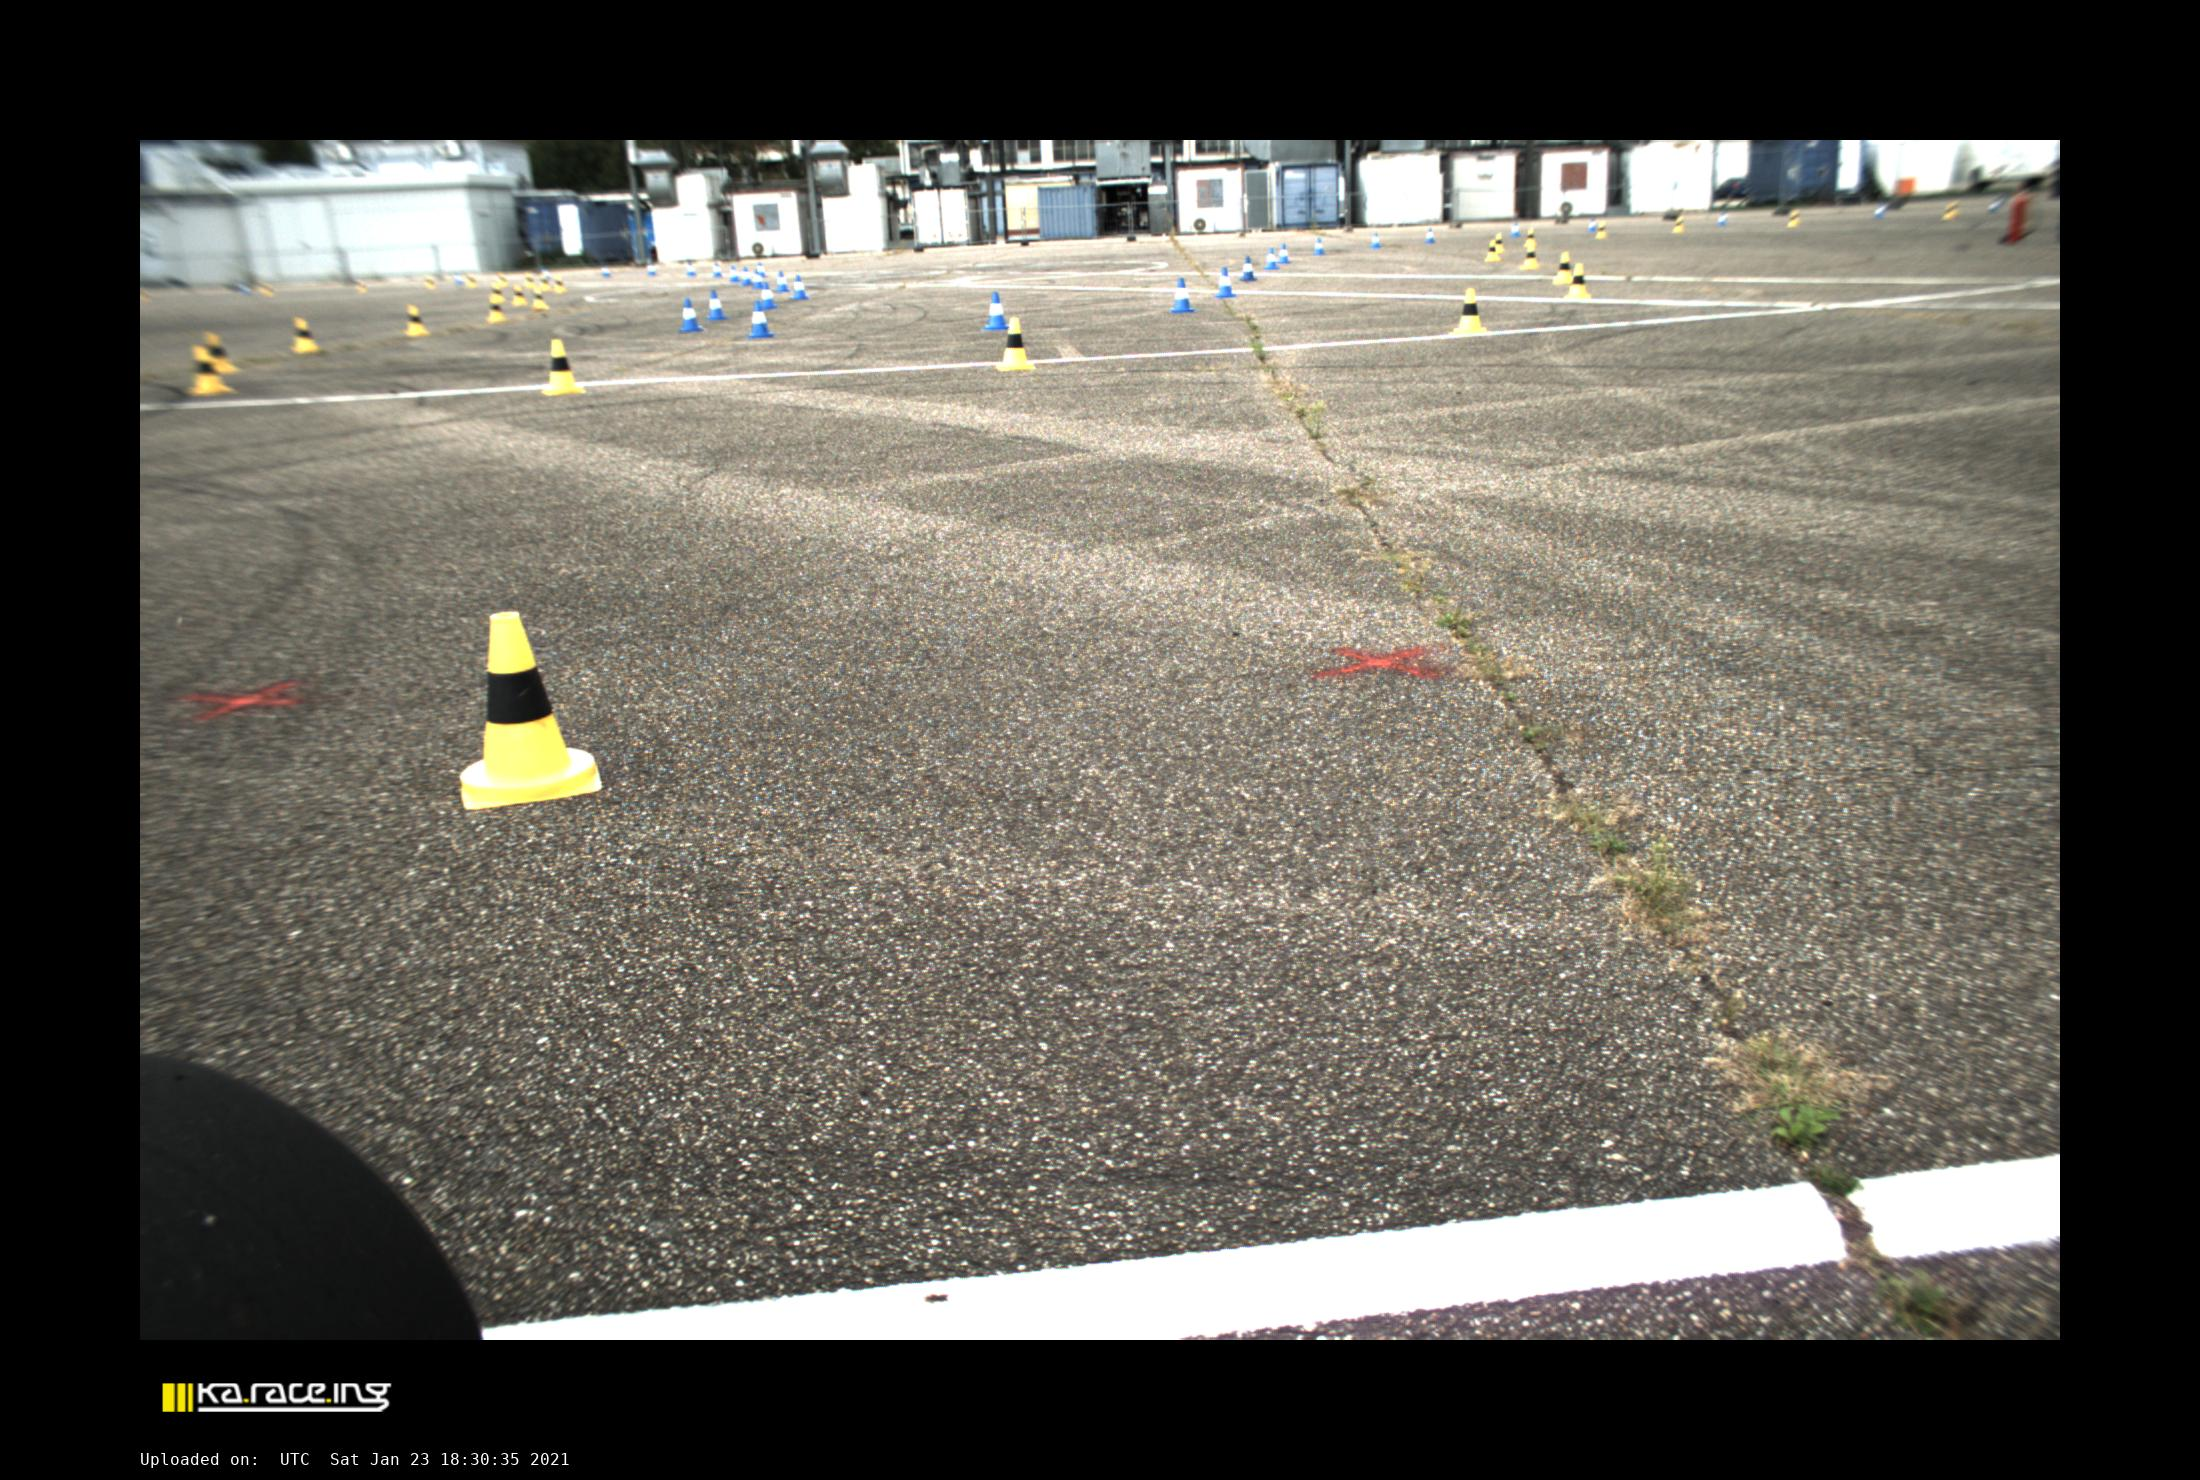blue_cone: (748, 301, 775, 339), (984, 292, 1009, 330), (1169, 277, 1196, 312), (679, 297, 704, 332), (705, 291, 728, 320), (1216, 268, 1235, 297), (791, 274, 809, 301), (1987, 193, 2007, 215), (1240, 256, 1257, 281), (761, 282, 776, 309), (775, 271, 789, 292), (1264, 248, 1278, 269), (1277, 243, 1292, 264), (1873, 202, 1889, 220), (1311, 236, 1326, 256), (236, 281, 253, 296), (685, 259, 699, 277), (752, 269, 763, 289), (742, 266, 753, 286), (1369, 231, 1381, 249), (1424, 226, 1435, 244), (728, 264, 740, 282), (600, 264, 613, 279), (1510, 221, 1521, 238), (755, 263, 766, 277), (712, 263, 723, 277), (1716, 211, 1728, 226), (647, 261, 657, 277), (542, 268, 553, 281), (1587, 216, 1595, 233), (454, 273, 464, 286)
yellow_cone: (461, 613, 601, 809), (185, 345, 236, 396), (542, 339, 585, 395), (996, 317, 1036, 372), (1453, 287, 1486, 335), (205, 330, 241, 373), (1564, 263, 1591, 299), (292, 319, 319, 353), (405, 306, 428, 335), (1553, 253, 1572, 284), (1520, 243, 1539, 269), (487, 296, 505, 324), (1941, 198, 1961, 220), (1485, 240, 1501, 263), (533, 287, 548, 311), (512, 284, 527, 306), (1785, 210, 1802, 228), (491, 282, 505, 302), (1524, 226, 1538, 248), (258, 281, 274, 297), (553, 274, 567, 294), (1671, 215, 1685, 235), (524, 271, 537, 289), (1595, 221, 1607, 240), (540, 273, 552, 291), (355, 279, 368, 294), (424, 274, 436, 291), (466, 273, 477, 289), (1496, 231, 1505, 253), (140, 287, 152, 302), (499, 271, 509, 287)
